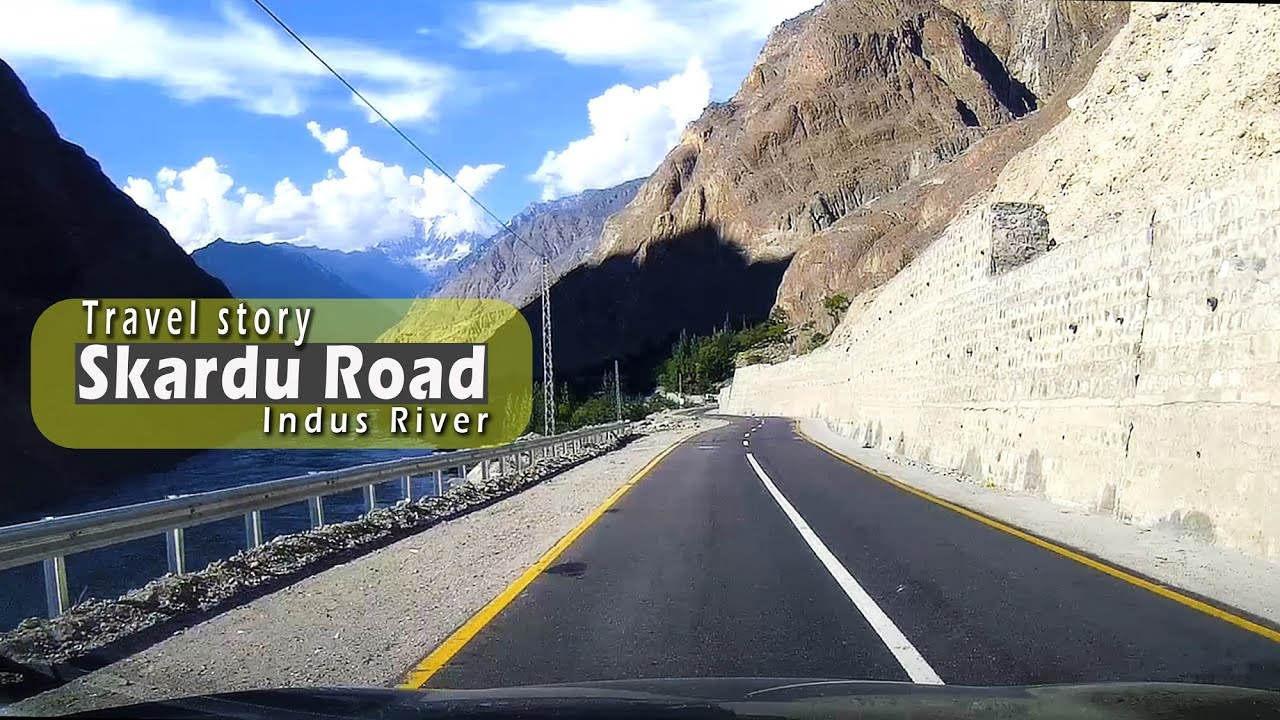straightRoad: (620, 425, 936, 720)
